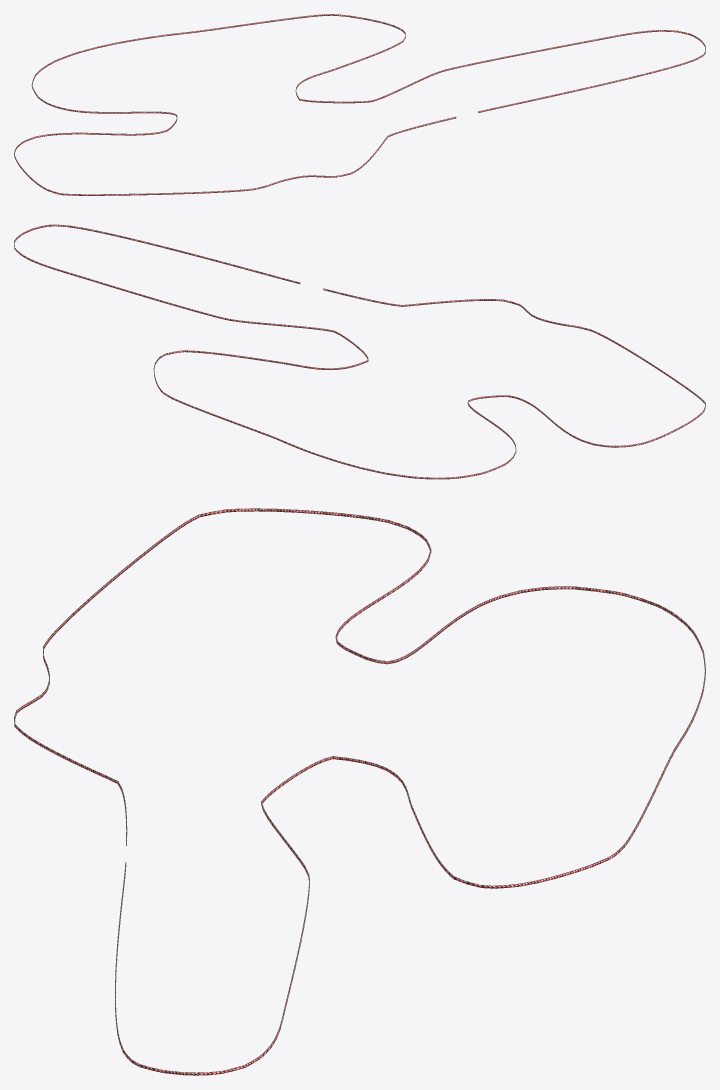
The model's file is racetrackbarrier2.glb.
The picture shows the model from 3 angles, top to bottom: view 1: azimuth 30°, elevation 25°; view 2: azimuth 150°, elevation 25°; view 3: azimuth 270°, elevation 25°; orthographic projection. The views are drawn at different scales.
Visible parts, largest first — view 1: Cube_042.001; view 2: Cube_042.001; view 3: Cube_042.001.
Part boxes in pixels (x1,y1,x2,y2): Cube_042.001: (14, 14, 705, 195); Cube_042.001: (14, 224, 705, 479); Cube_042.001: (14, 508, 705, 1075).
Bounding box in the file's own units: 266 × 0.5731 × 138.
1 material, 1 textured.
